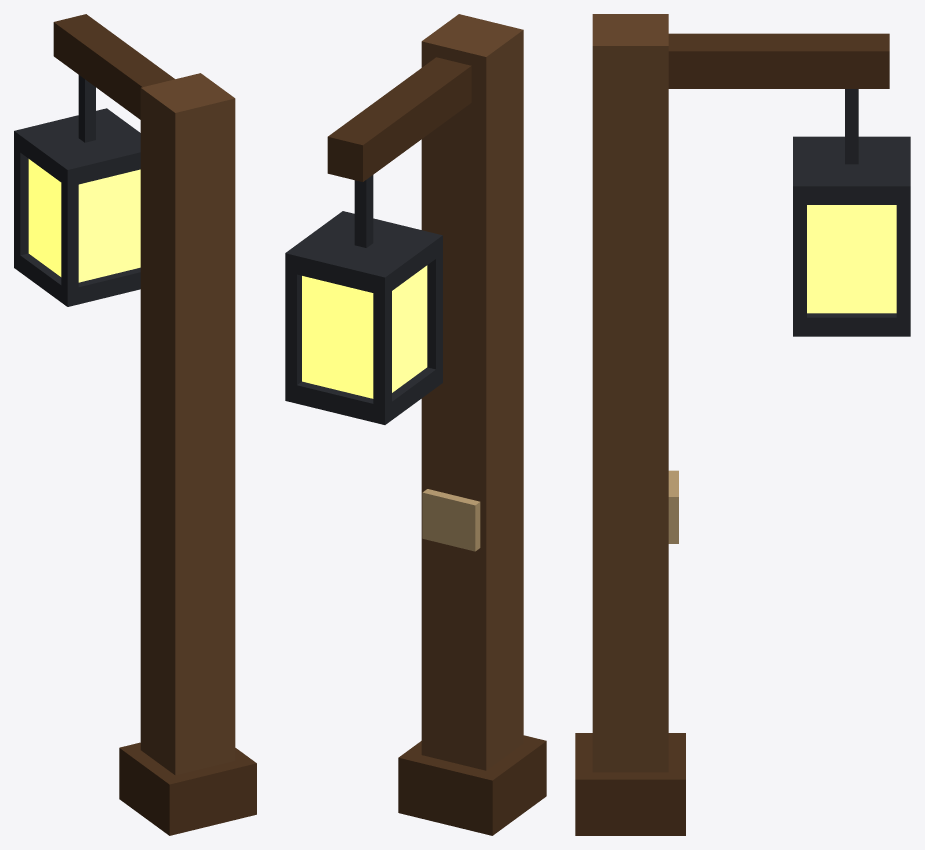
File: kr-lantern-pole.glb
3 views of the same model, side by side, from view 1: azimuth 30°, elevation 25°; view 2: azimuth 150°, elevation 25°; view 3: azimuth 270°, elevation 25° (orthographic). The views are drawn at different scales.
Parts seen in each view (by area): view 1: box-prop; view 2: box-prop; view 3: box-prop.
Boxes of the visible parts, x1=… form: box-prop: x1=14, y1=14, x2=256, y2=835; box-prop: x1=285, y1=14, x2=546, y2=835; box-prop: x1=575, y1=14, x2=910, y2=835.
Bounding box in the file's own units: 0.34 × 2.5 × 0.97.
